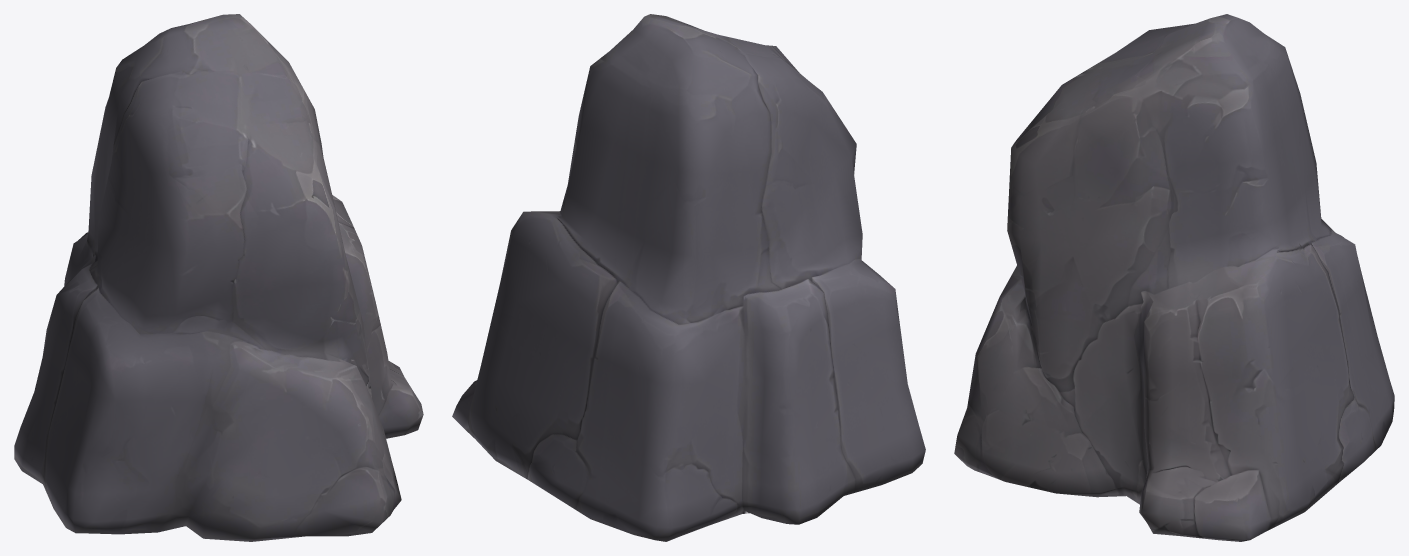
File: rock_pile_tall.glb
3 renders of one model, left to right at view 1: azimuth 30°, elevation 25°; view 2: azimuth 150°, elevation 25°; view 3: azimuth 270°, elevation 25°, orthographic. The views are drawn at different scales.
Visible parts, largest first — view 1: tripo_node_a5963505; view 2: tripo_node_a5963505; view 3: tripo_node_a5963505.
Boxes of the visible parts, x1=… form: tripo_node_a5963505: x1=14, y1=14, x2=423, y2=541; tripo_node_a5963505: x1=452, y1=14, x2=925, y2=541; tripo_node_a5963505: x1=954, y1=14, x2=1394, y2=541.
Size of the model in its own units: 1.92 by 2 by 1.87.
Materials: 1 (1 with a texture image).
